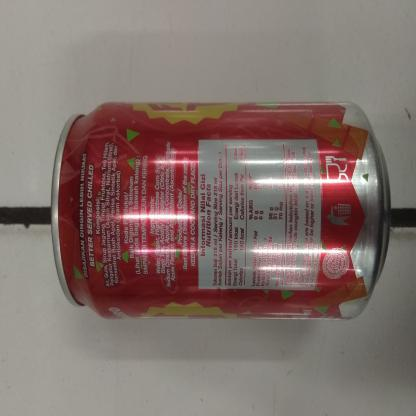bottle: (45, 99, 393, 324)
